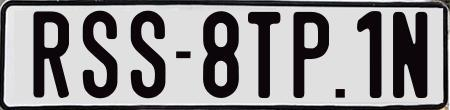1: (354, 8, 383, 95)
8: (203, 9, 240, 100)
N: (391, 10, 431, 97)
P: (292, 12, 334, 100)
R: (31, 8, 70, 96)
S: (82, 8, 123, 96), (131, 9, 168, 102)
T: (247, 10, 285, 96)
